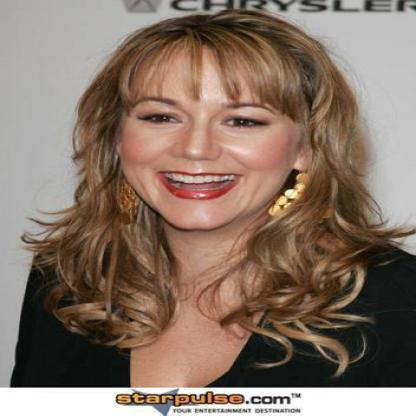long-hair: (19, 229, 385, 286)
